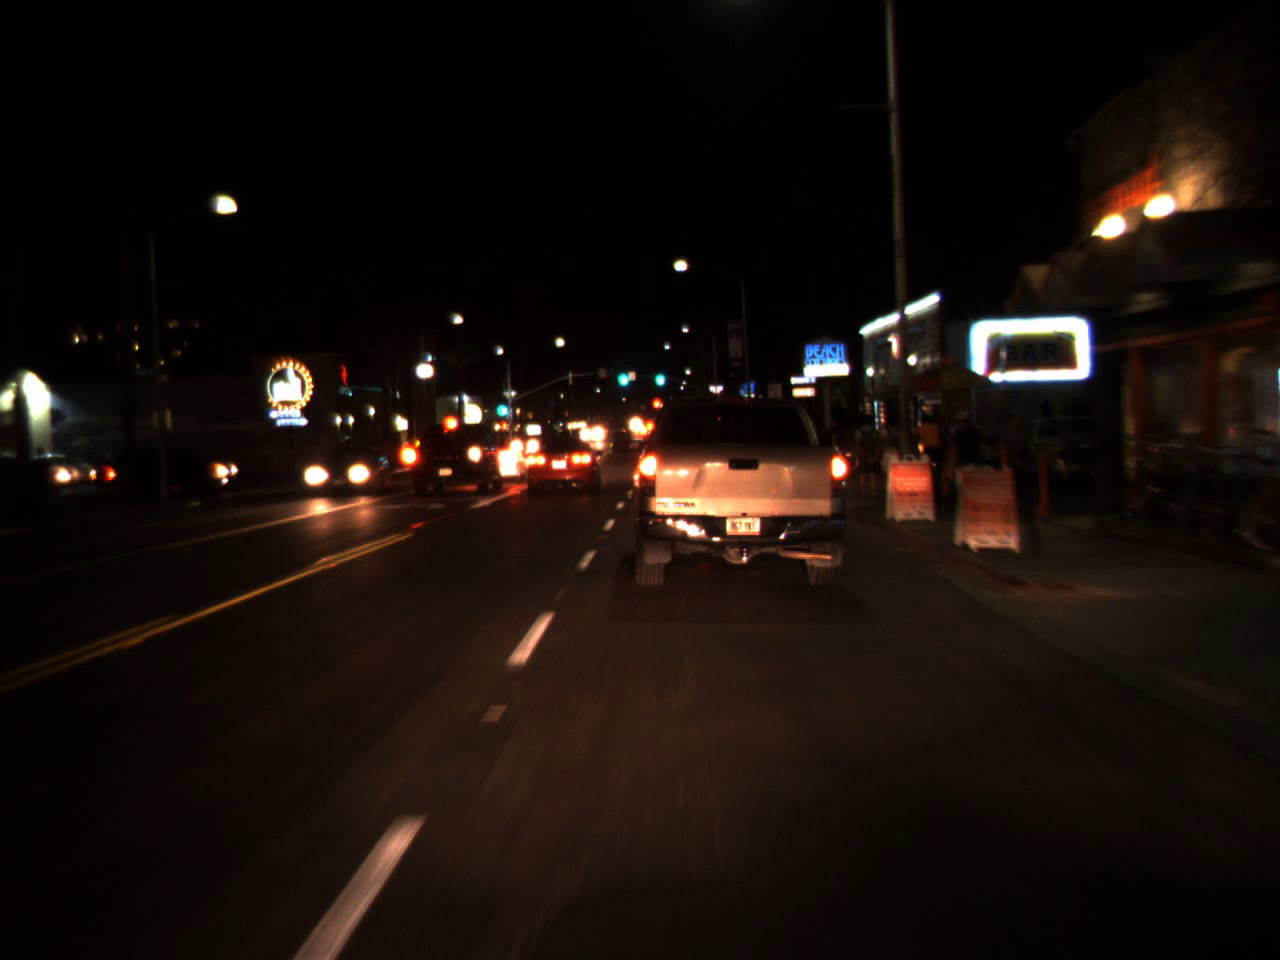go: (613, 357, 632, 390), (652, 360, 666, 390), (494, 391, 508, 421)
